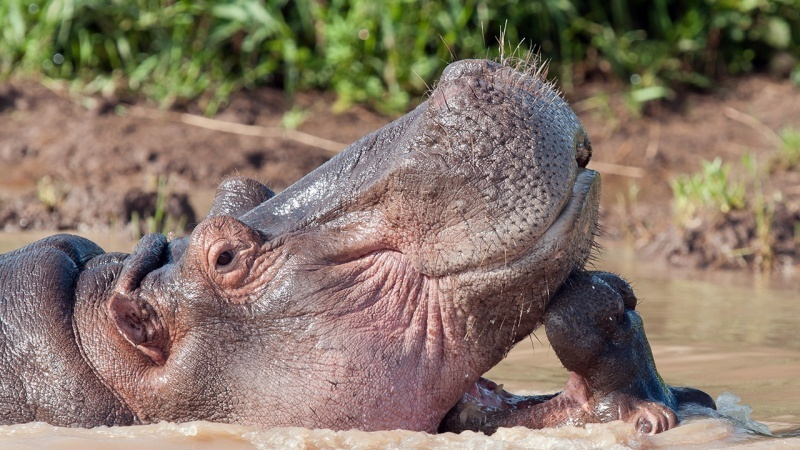hipopotamo: (1, 51, 604, 425), (414, 255, 783, 445)
